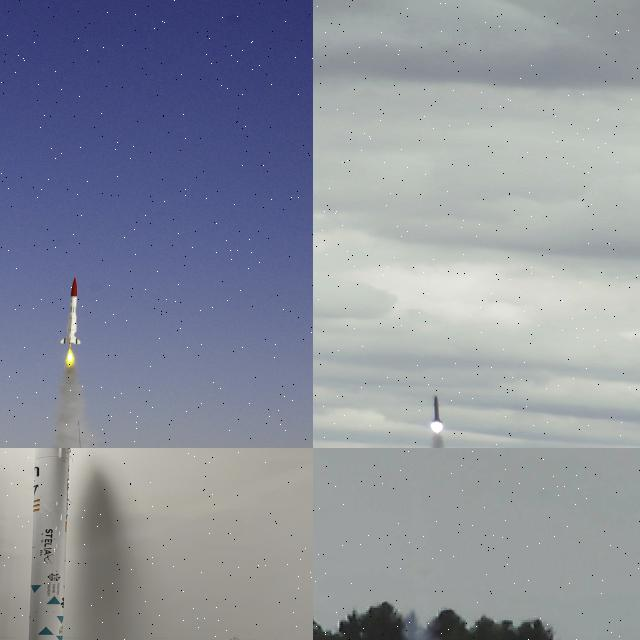Rocket: (29, 448, 70, 640), (59, 276, 84, 346), (432, 395, 443, 423)
